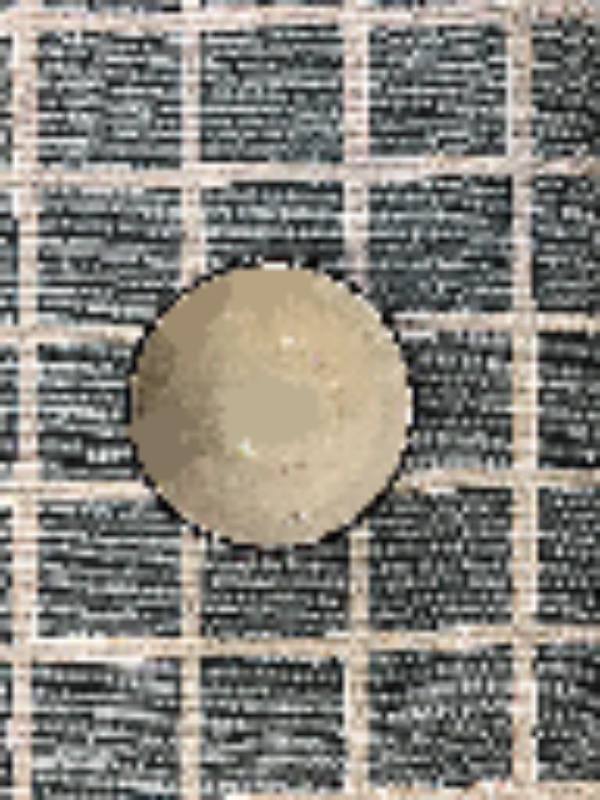bowl_small: (117, 248, 427, 562)
